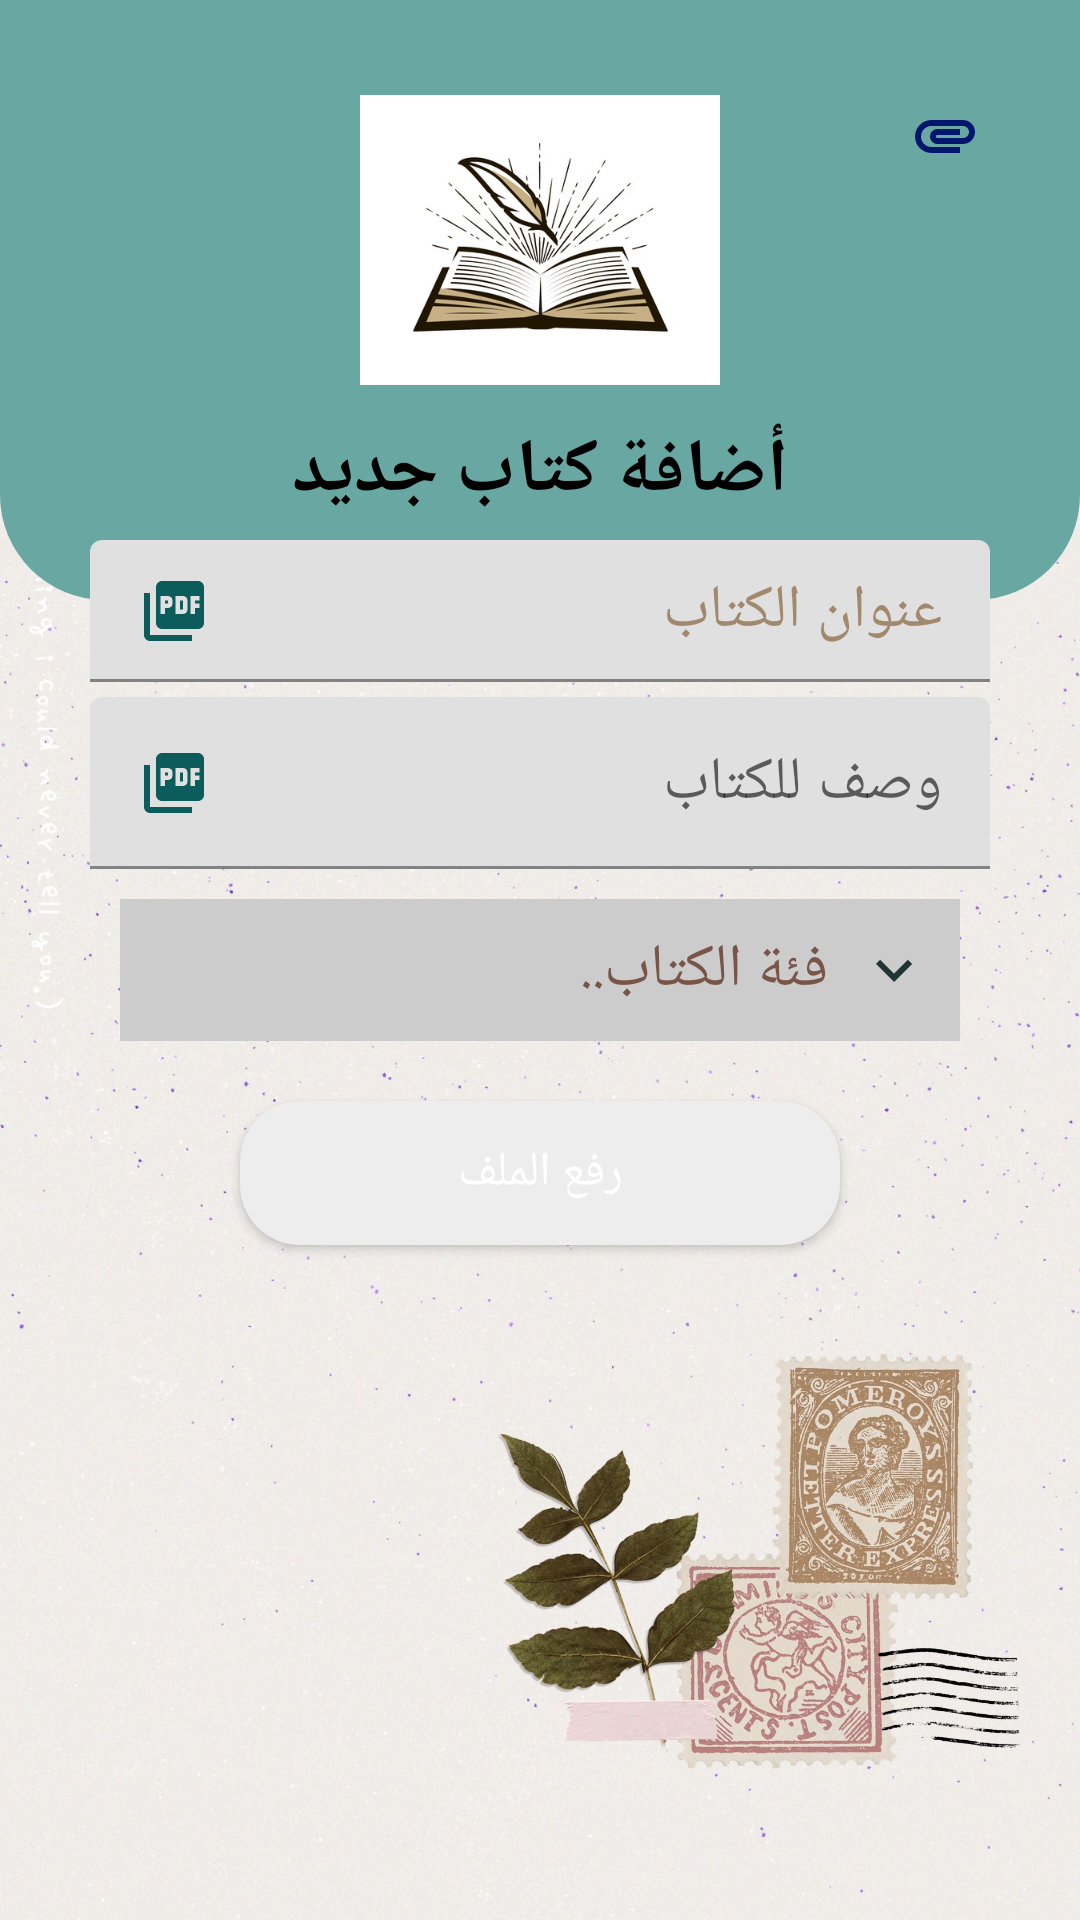

Icon click points for this 1080w x 1920h phone screenshot, format (x=x, y=y):
attach: (x=945, y=136)
